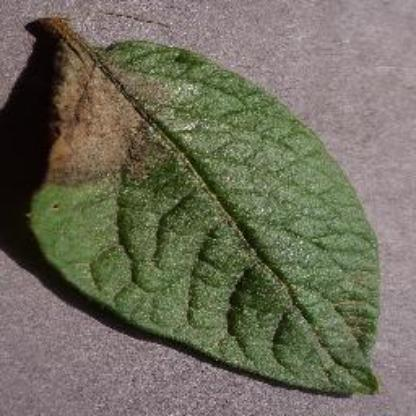Late-Blight: (24, 6, 388, 402)
